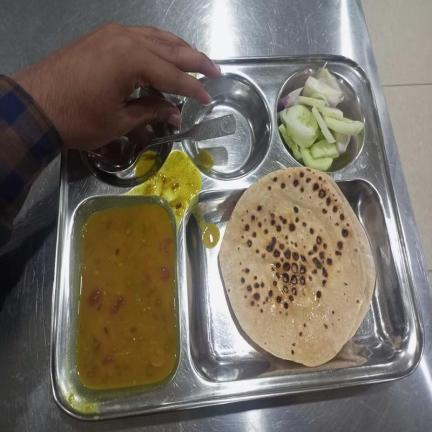Chana Dal: (76, 204, 177, 390)
Plate: (50, 53, 425, 422)
Roti: (219, 167, 376, 366)
Salad: (277, 59, 363, 172)
